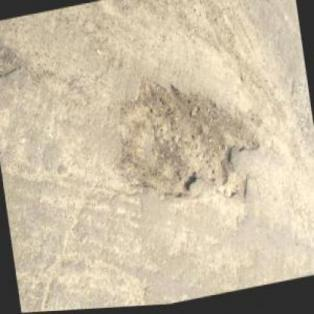Hueco: (107, 59, 270, 226), (0, 26, 26, 85)
